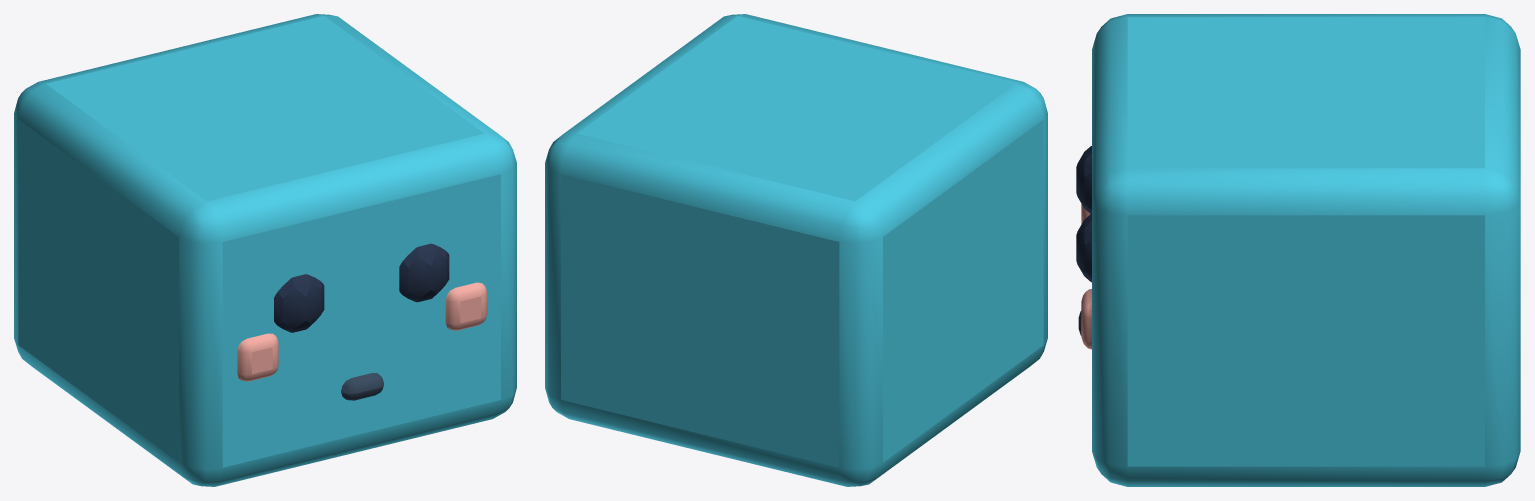
Rendered from jelly.glb.
The picture shows the model from 3 angles, left to right: view 1: azimuth 30°, elevation 25°; view 2: azimuth 150°, elevation 25°; view 3: azimuth 270°, elevation 25°; orthographic projection. The views are drawn at different scales.
Visible parts, largest first — view 1: blush_left; view 2: blush_left; view 3: blush_left.
Boxes of the visible parts, left/top/right/bottom form: blush_left: left=14, top=14, right=516, bottom=486; blush_left: left=545, top=14, right=1047, bottom=486; blush_left: left=1076, top=14, right=1520, bottom=486.
Bounding box in the file's own units: 1 × 0.8125 × 1.04.
